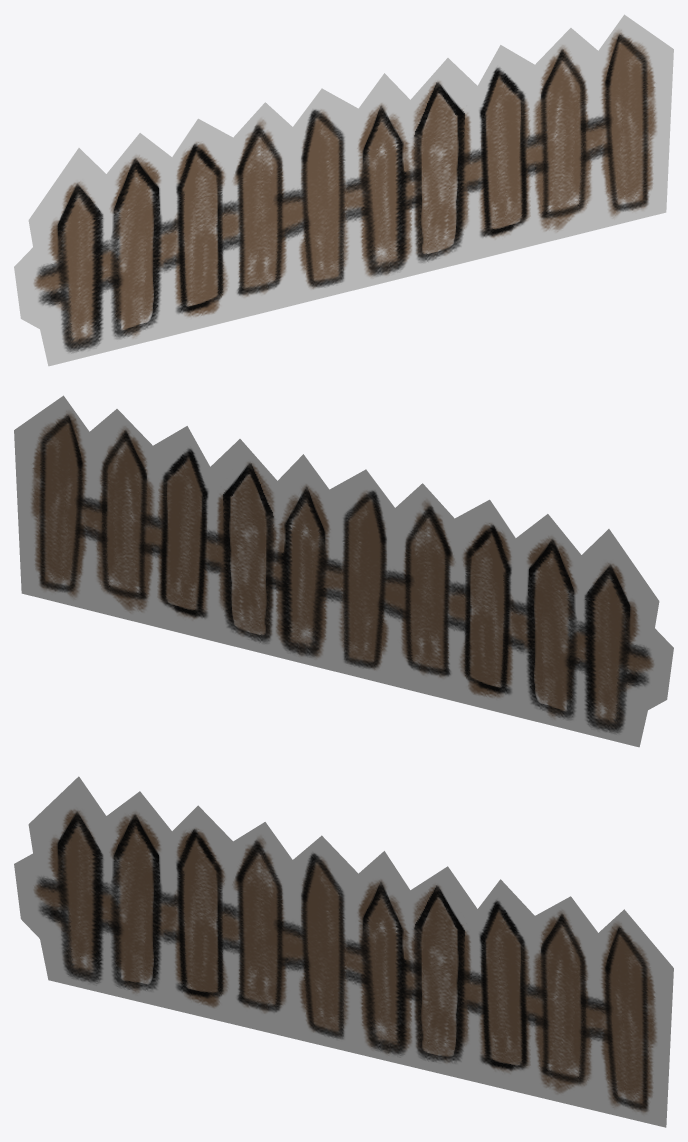
File: staket_single.fbx
3 views of the same model, one above another, from view 1: azimuth 30°, elevation 25°; view 2: azimuth 150°, elevation 25°; view 3: azimuth 330°, elevation 25° (orthographic).
Visible parts, largest first — view 1: Staket.001; view 2: Staket.001; view 3: Staket.001.
Part boxes in pixels (box(x1,y1,x2,y2)): Staket.001: box(14, 14, 673, 366); Staket.001: box(14, 395, 673, 747); Staket.001: box(14, 776, 673, 1127).
Bounding box in the file's own units: 326 × 99.9 × 1.63e-05.
Materials: 1 (1 with a texture image).
